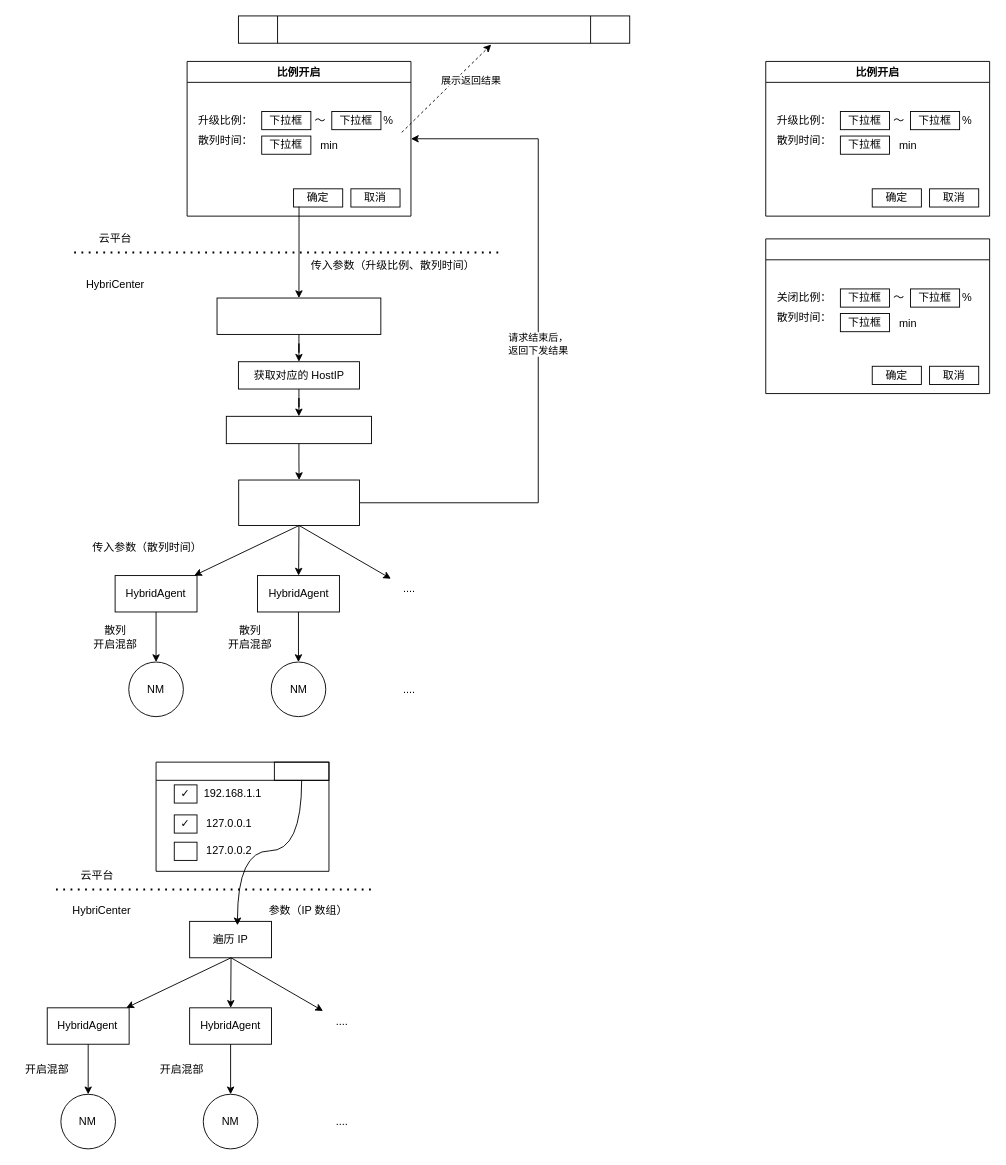
This 1006x1165 diagram has some shape labels left out. Here are the shapes that lost their labels. From the top down, the box of each, then its label:
(238, 15, 630, 43): 批量开启混部请求下发完毕，比例 10%～20%，散列 5min 完成
(216, 297, 381, 334): 获取当前 yarn 集群 pod 信息
(765, 238, 990, 394): 比例关闭
(225, 415, 371, 444): 将 HostIP 散列成 100 份
(238, 479, 360, 526): 根据升级比例 开启混部
(273, 761, 329, 780): 批量开启
